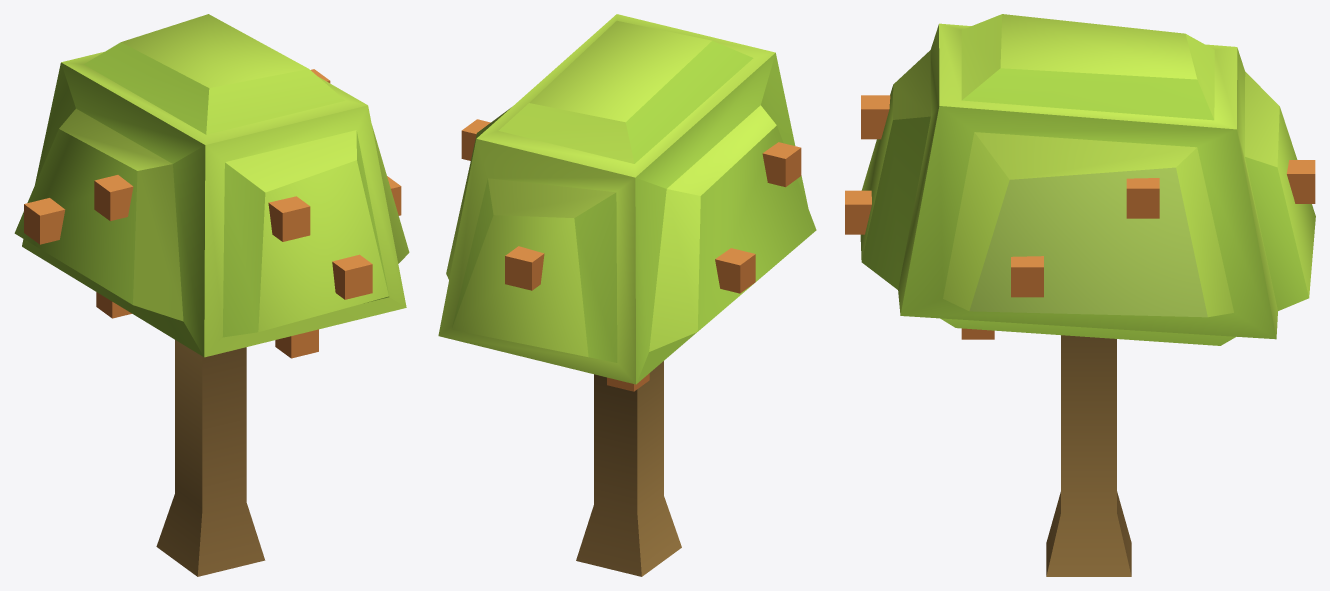
Rendered from Prop_Tree_Orange.glb.
3 views of the same model, side by side, from view 1: azimuth 30°, elevation 25°; view 2: azimuth 150°, elevation 25°; view 3: azimuth 270°, elevation 25° (orthographic). The views are drawn at different scales.
Visible parts, largest first — view 1: Prop_Tree_Orange; view 2: Prop_Tree_Orange; view 3: Prop_Tree_Orange.
Boxes of the visible parts, bbox=[...] form: Prop_Tree_Orange: bbox=[14, 14, 409, 576]; Prop_Tree_Orange: bbox=[438, 14, 816, 576]; Prop_Tree_Orange: bbox=[845, 14, 1315, 576].
Bounding box in the file's own units: 1.23 × 1.97 × 1.6.
1 material, 1 textured.
